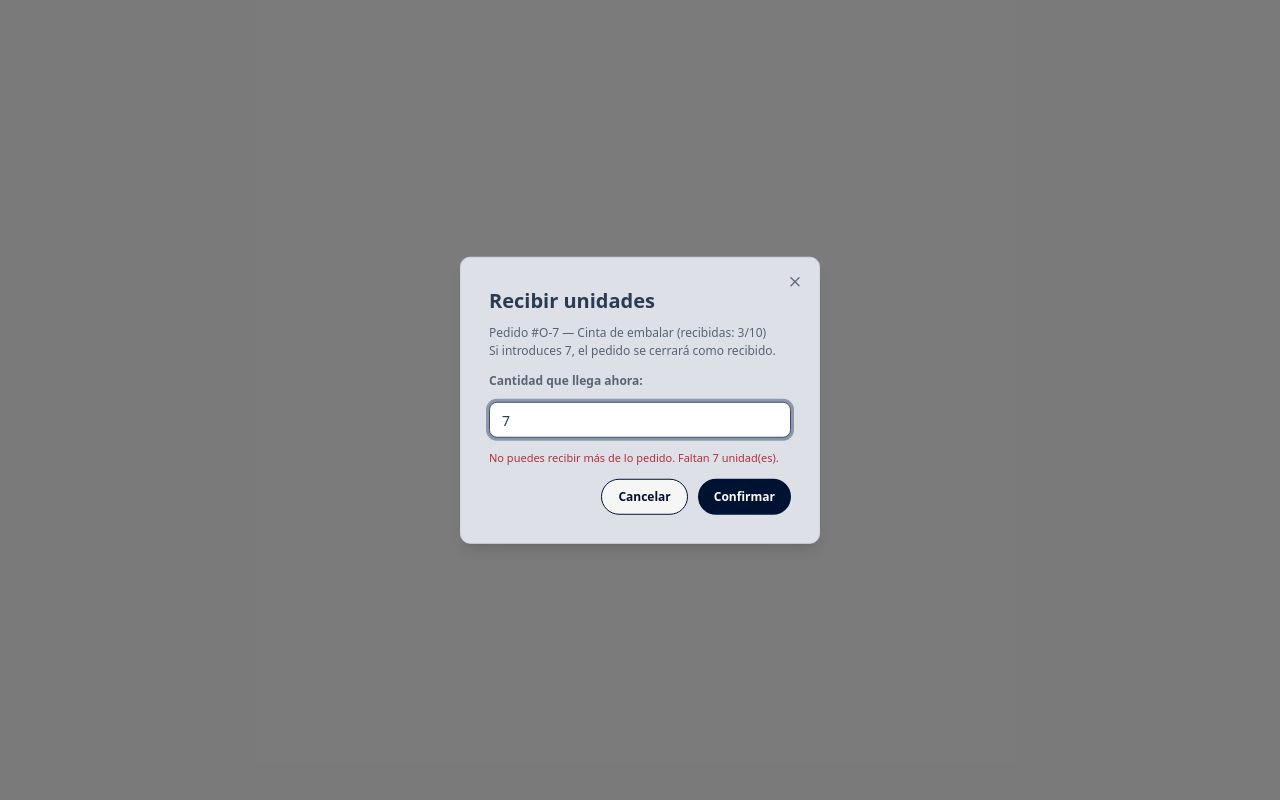
it: CantidadDialog (spec 4b §6, P6) › un 422 del servidor se pinta inline y se oculta al teclear
Expected: the message reads "No puedes recibir más de lo pedido. Faltan 7 unidad(es).", [489,450,779,465]
Type "1" into the field labelled "Cantidad que llega ahora:". click: (640, 420)
box: [489,402,791,438]
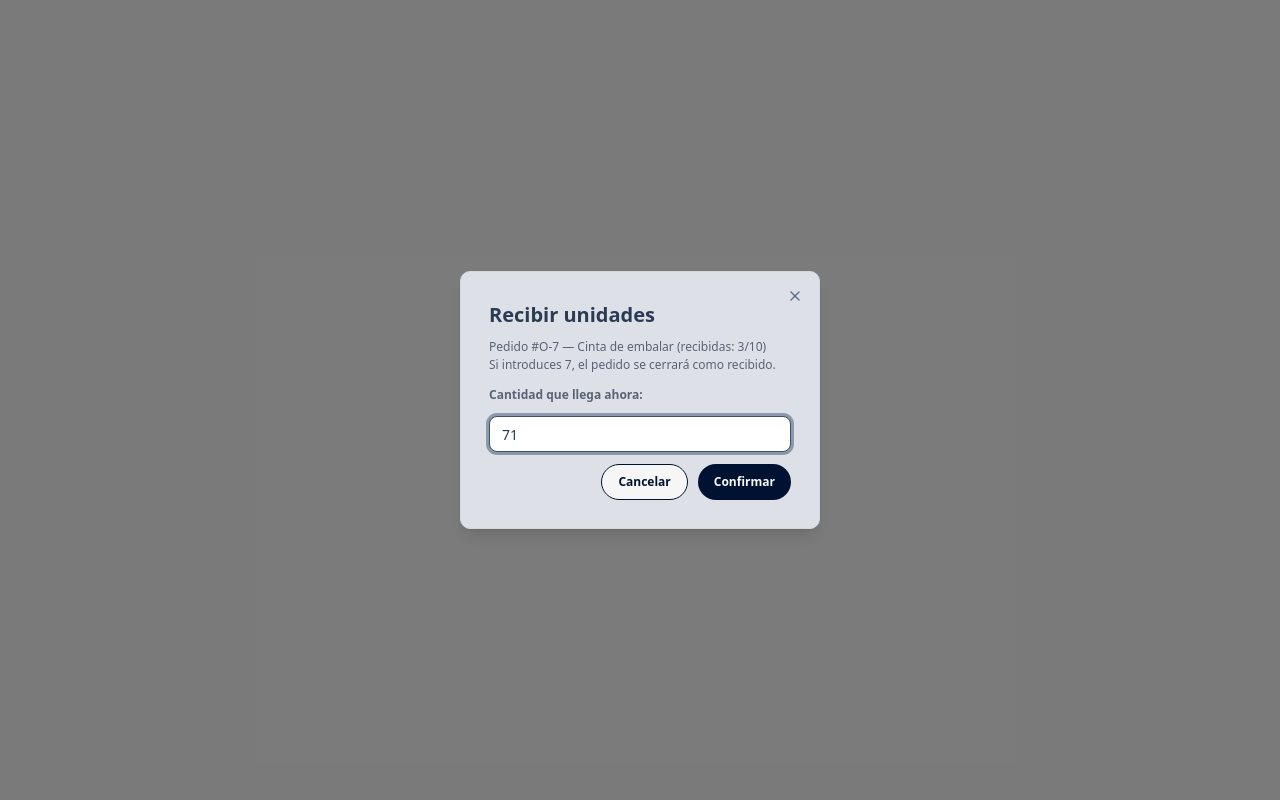
Now the message "No puedes recibir más de lo pedido. Faltan 7 unidad(es)." is gone
